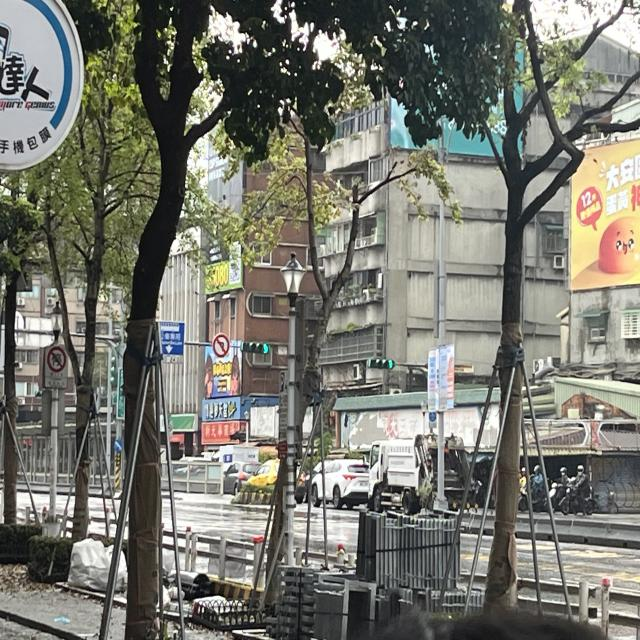green light: (242, 342, 270, 356), (369, 358, 397, 372)
